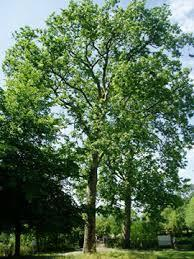tree: (1, 2, 186, 251)
